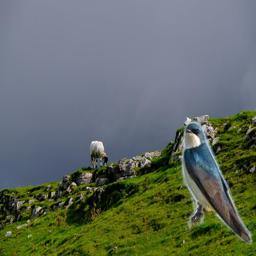Swallow: (179, 117, 254, 245)
